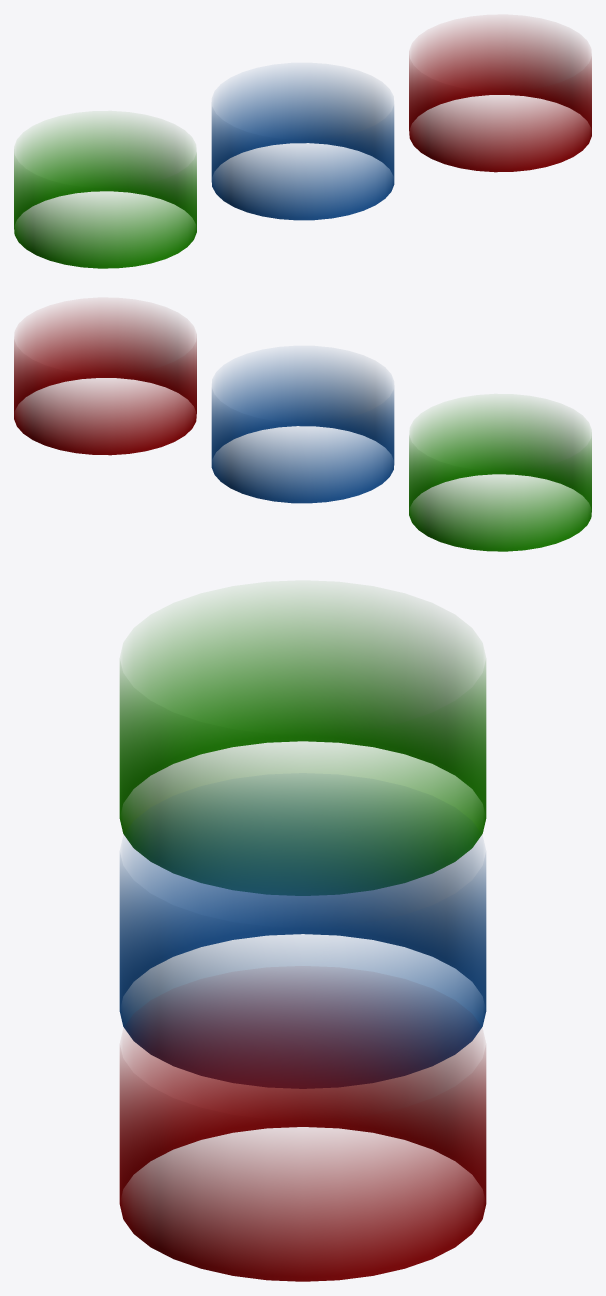
File: gta_marker_gradient_pack_blue_green_red.glb
The picture shows the model from 3 angles, top to bottom: view 1: azimuth 30°, elevation 25°; view 2: azimuth 150°, elevation 25°; view 3: azimuth 270°, elevation 25°; orthographic projection. The views are drawn at different scales.
Visible parts, largest first — view 1: marker_blue_0, marker_green_2, marker_red_1; view 2: marker_blue_0, marker_green_2, marker_red_1; view 3: marker_red_1, marker_blue_0, marker_green_2.
Part boxes in pixels (<box>): marker_blue_0: <box>211,69,394,220</box>; marker_green_2: <box>14,117,196,268</box>; marker_red_1: <box>409,20,591,172</box>; marker_blue_0: <box>211,352,394,503</box>; marker_green_2: <box>409,400,591,551</box>; marker_red_1: <box>14,303,196,455</box>; marker_red_1: <box>119,978,486,1281</box>; marker_blue_0: <box>119,785,486,1088</box>; marker_green_2: <box>119,592,486,895</box>.
Size of the model in its own units: 247 by 34.28 by 70.69.
Materials: 3 (3 with a texture image).
